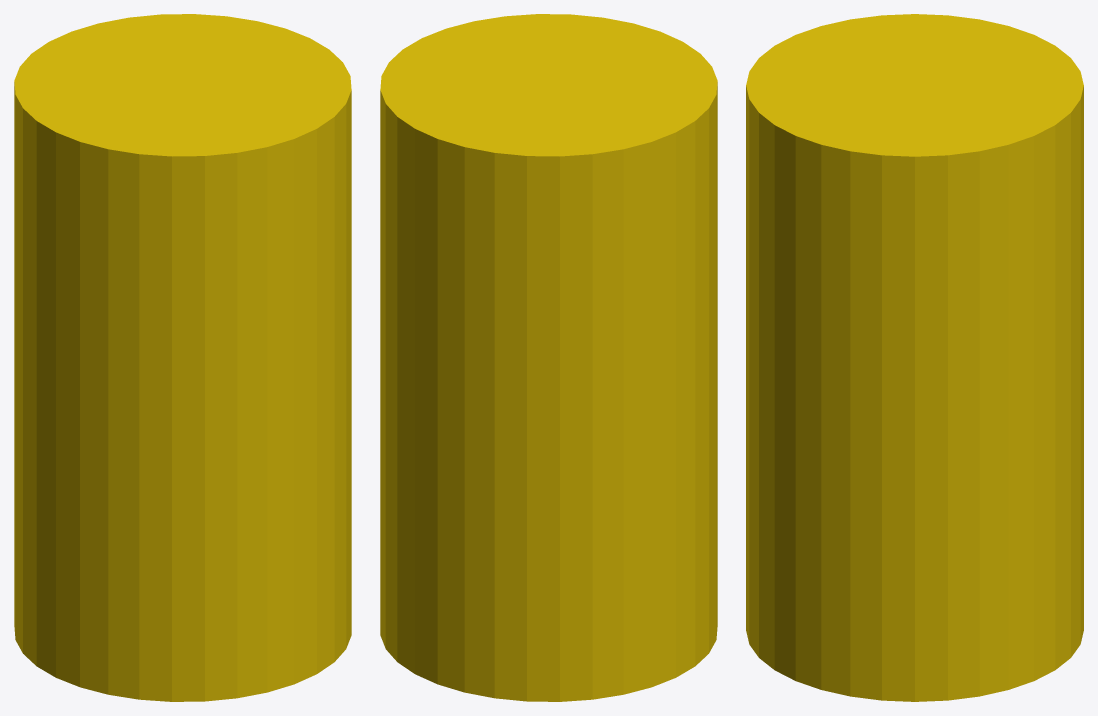
File: hitbox.glb
3 renders of one model, left to right at view 1: azimuth 30°, elevation 25°; view 2: azimuth 150°, elevation 25°; view 3: azimuth 270°, elevation 25°, orthographic.
Visible parts, largest first — view 1: hitbox_01; view 2: hitbox_01; view 3: hitbox_01.
Boxes of the visible parts, left/top/right/bottom form: hitbox_01: left=14, top=14, right=351, bottom=701; hitbox_01: left=380, top=14, right=717, bottom=701; hitbox_01: left=746, top=14, right=1083, bottom=701.
Size of the model in its own units: 1.8 by 3.21 by 1.8.
